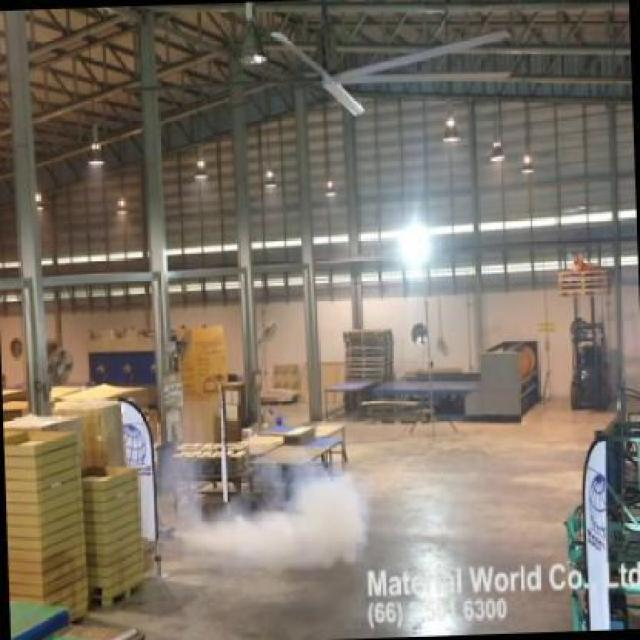fire: (198, 463, 372, 583)
